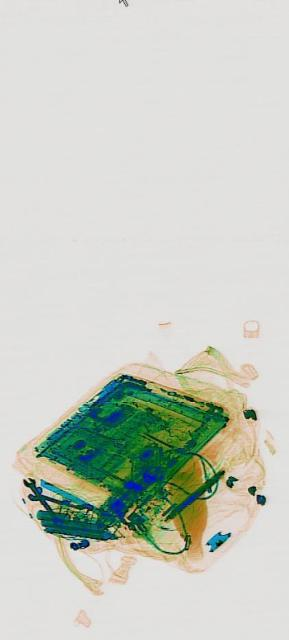Wrench: (20, 467, 59, 533), (26, 485, 92, 517)
